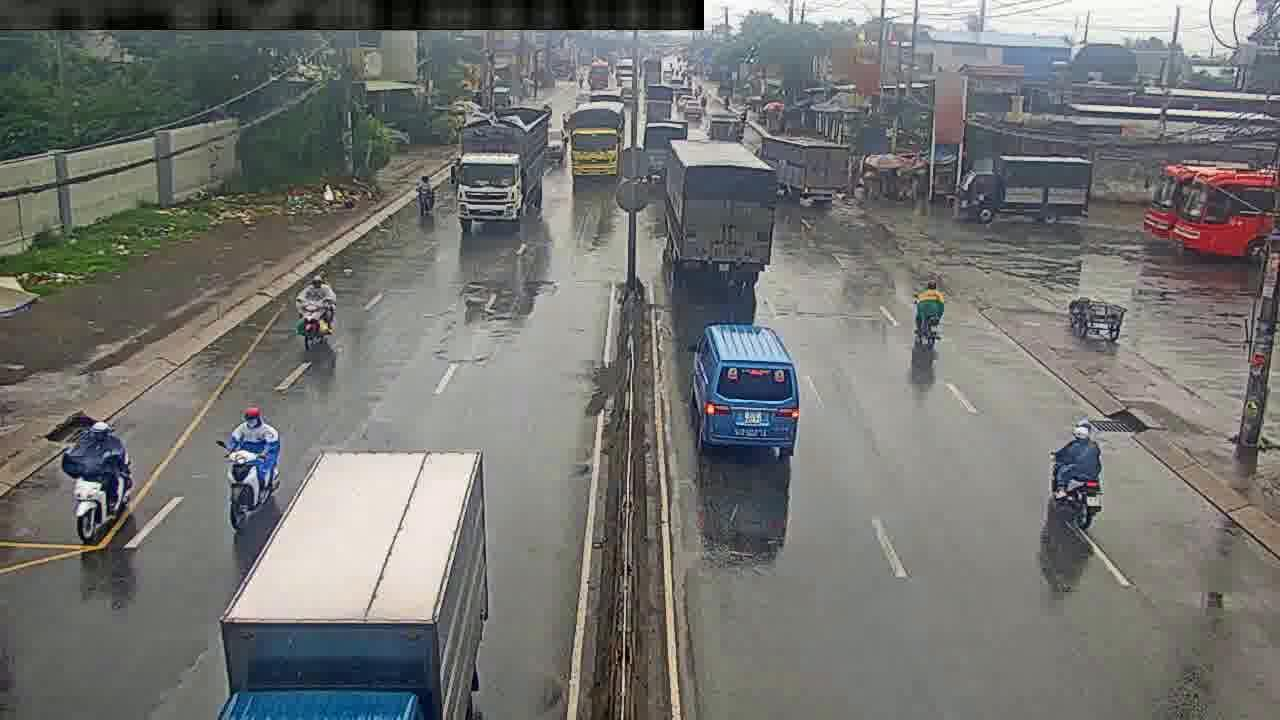8: (212, 438, 490, 720), (660, 133, 774, 277), (757, 131, 849, 199), (466, 145, 523, 218), (569, 107, 623, 181)
container: (699, 324, 793, 451)
motorbike: (75, 420, 133, 544), (227, 399, 283, 526), (1053, 414, 1102, 529), (298, 268, 334, 358), (916, 278, 946, 348), (416, 166, 439, 221)
